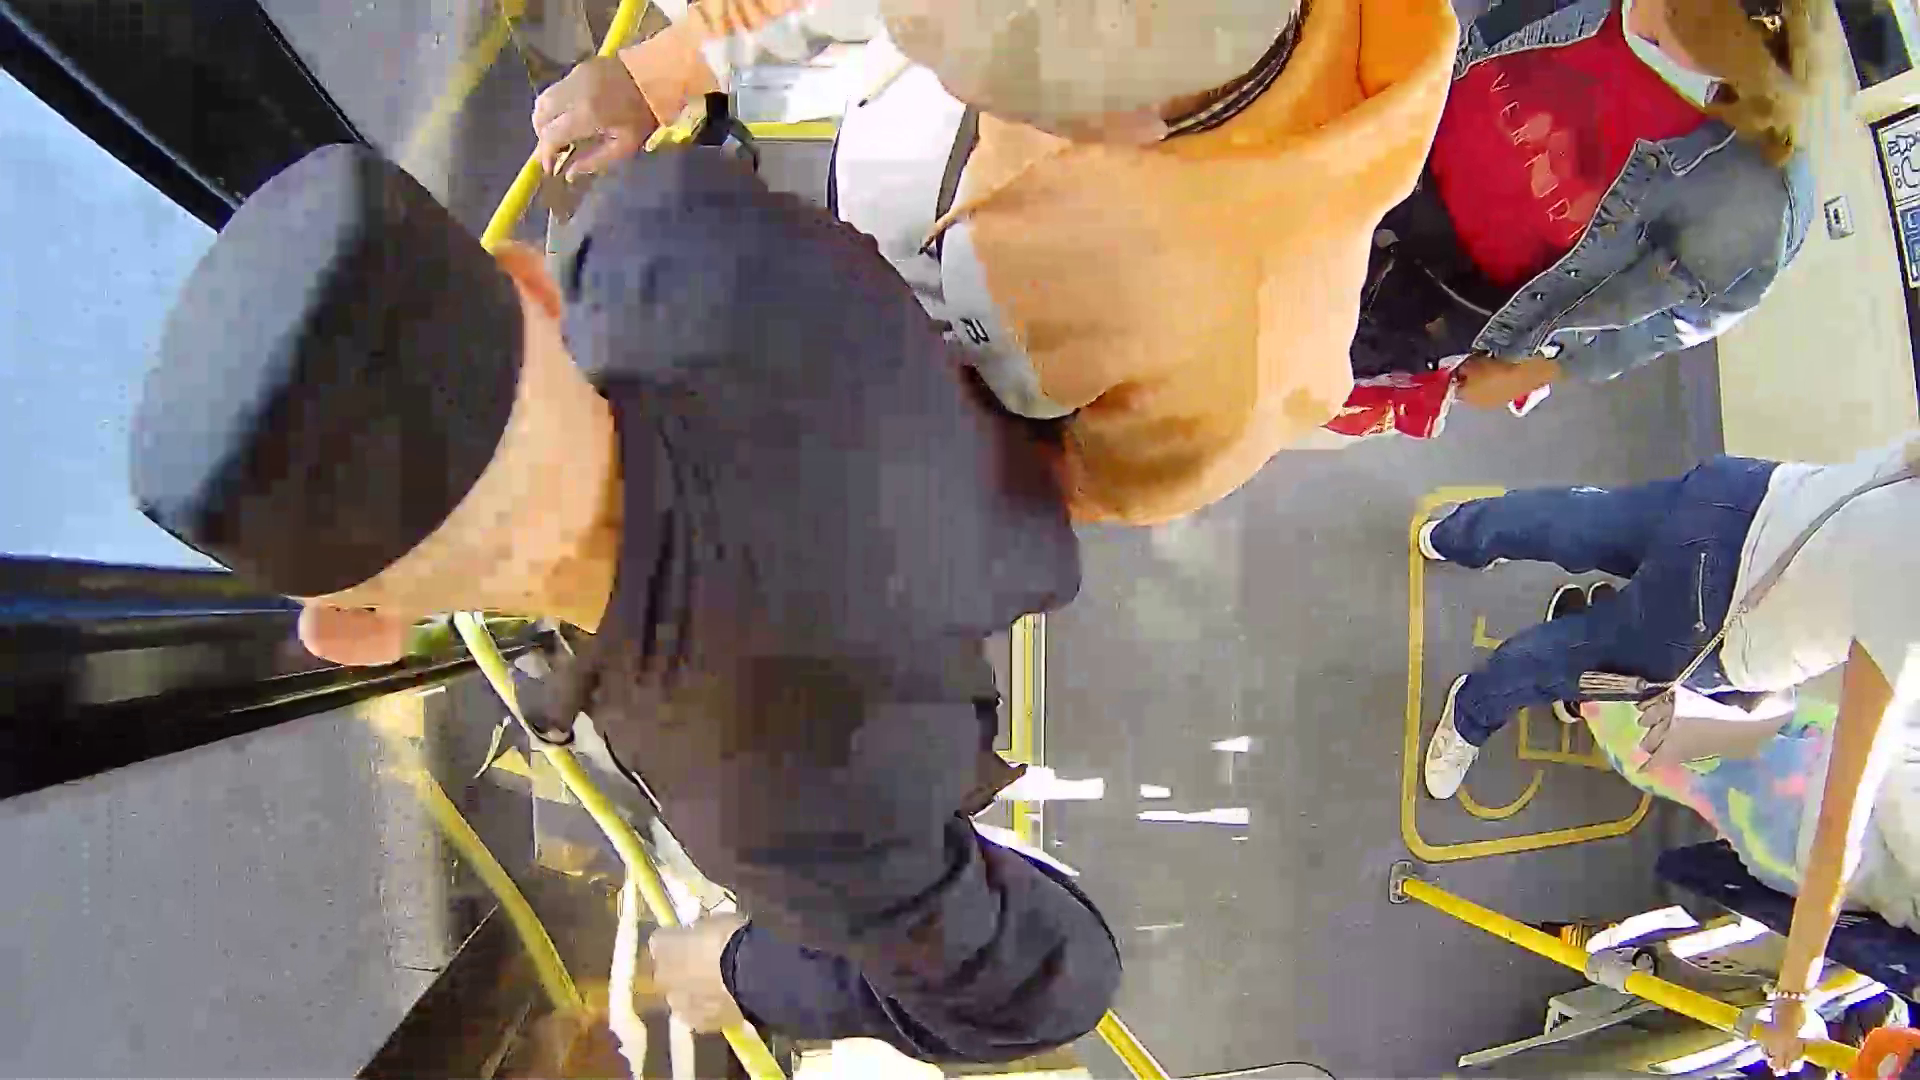person: (189, 127, 1209, 1013)
